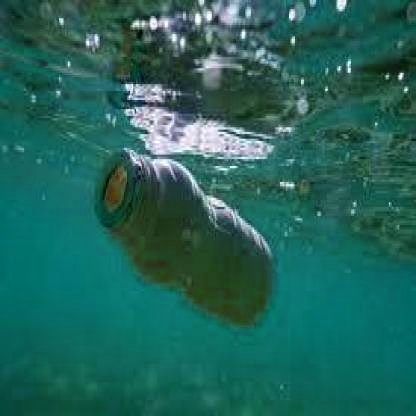pbottle: (83, 130, 280, 338)
